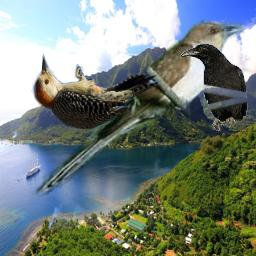Crow: (180, 43, 248, 131)
Cuckoo: (32, 19, 248, 202)
Woodpecker: (23, 51, 165, 131)
